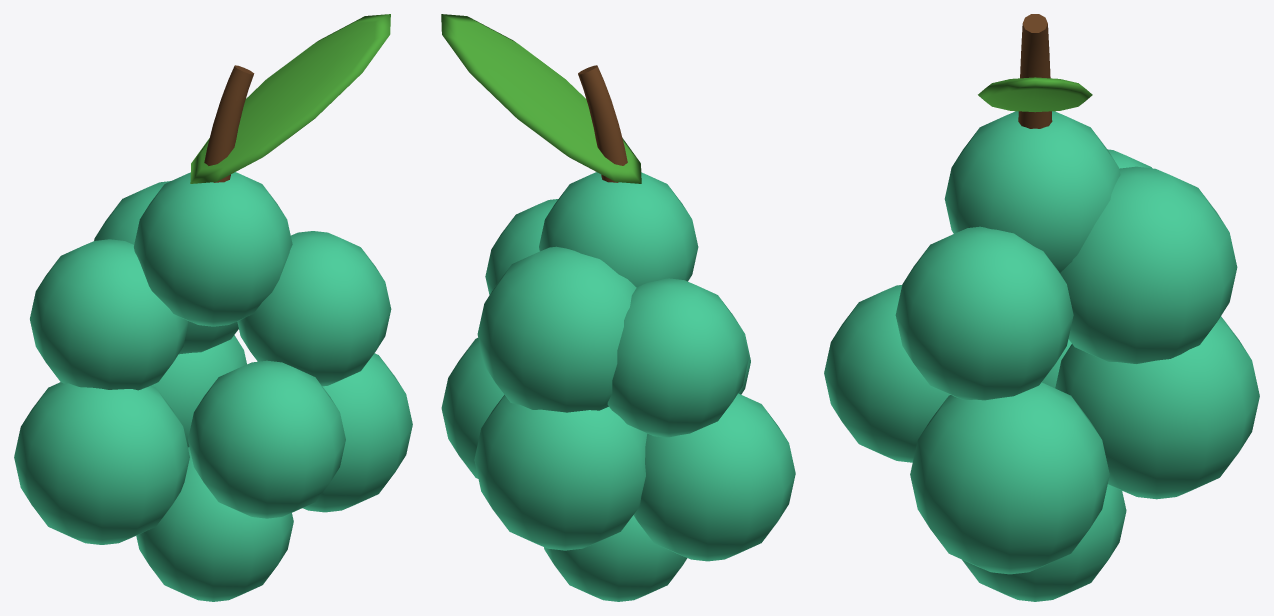
The model's file is SeaGrape.fbx.
3 renders of one model, left to right at view 1: azimuth 30°, elevation 25°; view 2: azimuth 150°, elevation 25°; view 3: azimuth 270°, elevation 25°, orthographic. The views are drawn at different scales.
Visible parts, largest first — view 1: Body, Body.003, Body.006, Body.004, Body.005, Handle, Leaf, Body.001, Body.002, Body.007, Twig; view 2: Body.002, Body.007, Body, Body.004, Body.006, Leaf, Handle, Body.001, Body.005, Twig; view 3: Body.001, Body.007, Body.005, Body.002, Body.006, Body.003, Handle, Leaf, Twig.
Part boxes in pixels (box(x1,y1,x2,y2)): Body: box(14, 382, 189, 544); Body.003: box(188, 360, 345, 518); Body.006: box(134, 172, 292, 326); Body.004: box(30, 239, 188, 390); Body.005: box(237, 231, 391, 386); Handle: box(136, 447, 293, 601); Leaf: box(190, 14, 390, 183); Body.001: box(302, 353, 412, 512); Body.002: box(151, 335, 246, 447); Body.007: box(94, 181, 238, 354); Twig: box(204, 65, 254, 182); Body.002: box(474, 395, 647, 550); Body.007: box(477, 246, 636, 412); Body: box(633, 393, 795, 561); Body.004: box(607, 278, 748, 437); Body.006: box(539, 172, 698, 287); Leaf: box(441, 14, 641, 183); Handle: box(544, 515, 687, 601); Body.001: box(441, 338, 504, 478); Body.005: box(485, 199, 557, 294); Twig: box(578, 65, 627, 182); Body.001: box(910, 382, 1109, 574); Body.007: box(1060, 166, 1237, 363); Body.005: box(895, 226, 1073, 400); Body.002: box(1055, 316, 1259, 499); Body.006: box(944, 111, 1120, 272); Body.003: box(824, 285, 950, 462); Handle: box(962, 484, 1126, 601); Leaf: box(978, 77, 1092, 112); Twig: box(1018, 14, 1052, 128).
Bounding box in the file's own units: 0.9172 × 1.33 × 0.8614.
